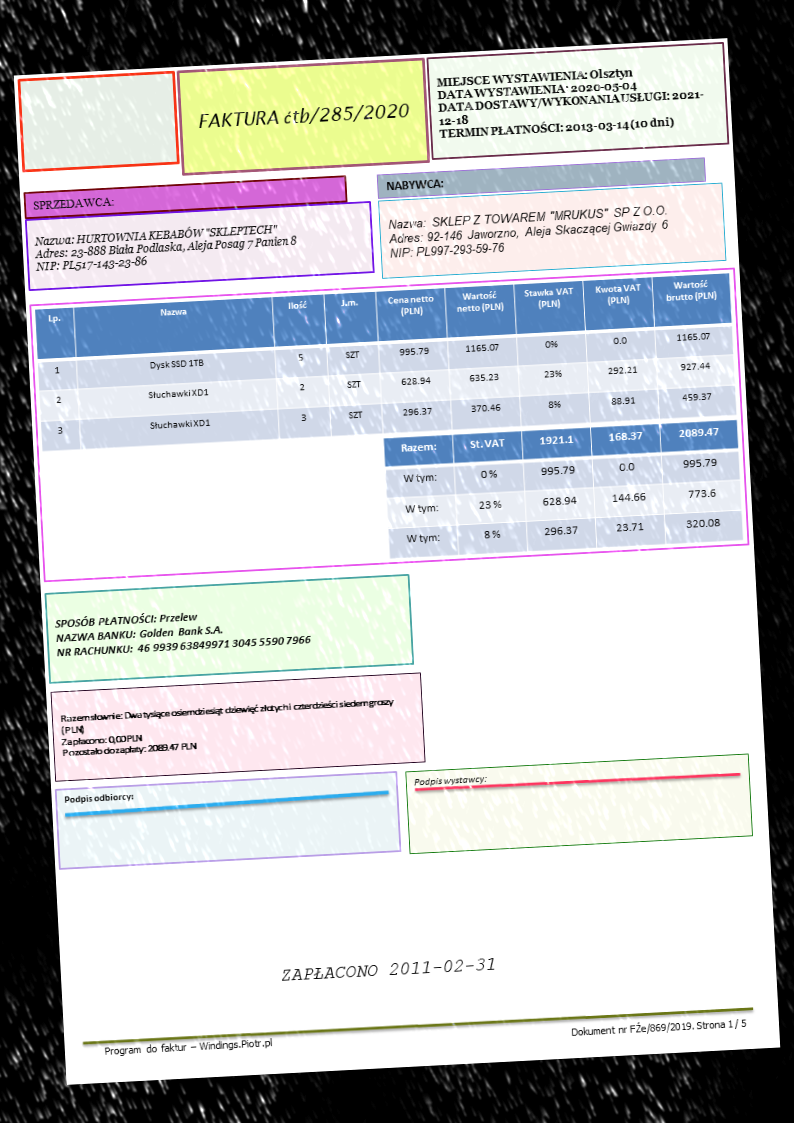Table: (33, 272, 736, 453), (381, 418, 745, 560)
TextBox: (57, 694, 398, 759), (435, 62, 707, 142), (386, 202, 672, 261), (53, 603, 313, 660), (32, 220, 297, 275), (196, 98, 411, 134), (279, 956, 498, 985), (568, 1015, 748, 1043), (102, 1036, 274, 1060), (30, 195, 116, 213), (60, 790, 138, 808), (384, 176, 445, 195), (412, 774, 488, 789)
